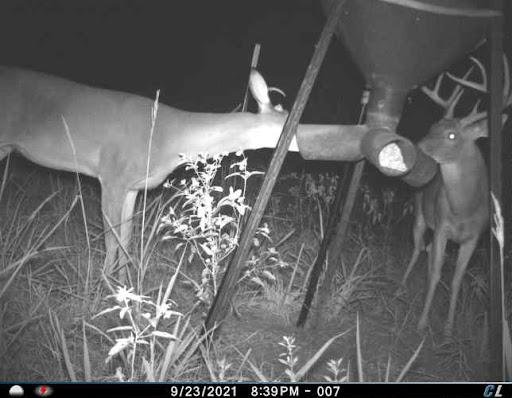Deer: (0, 54, 299, 296), (403, 50, 511, 350)
